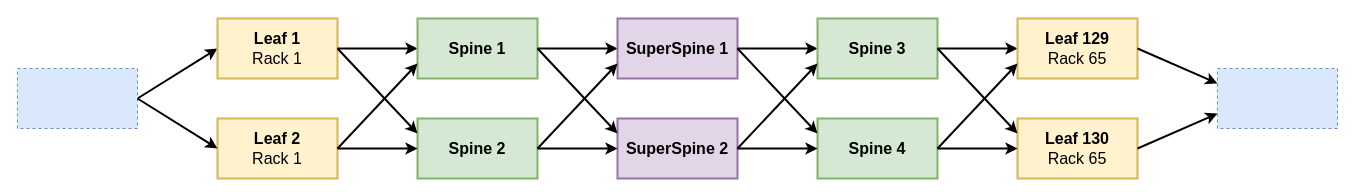
Some shapes in this 1355 by 196 pixel diagram are drawn without their labels. Each missing label, with the centre of its shape:
Compute A Rack 1: point 77,98
Compute B Rack 65: point 1277,98
